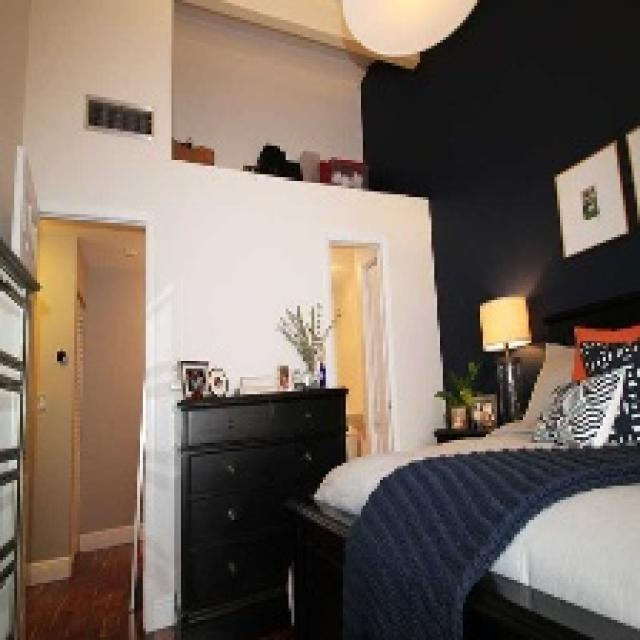Bed: (283, 280, 637, 637)
